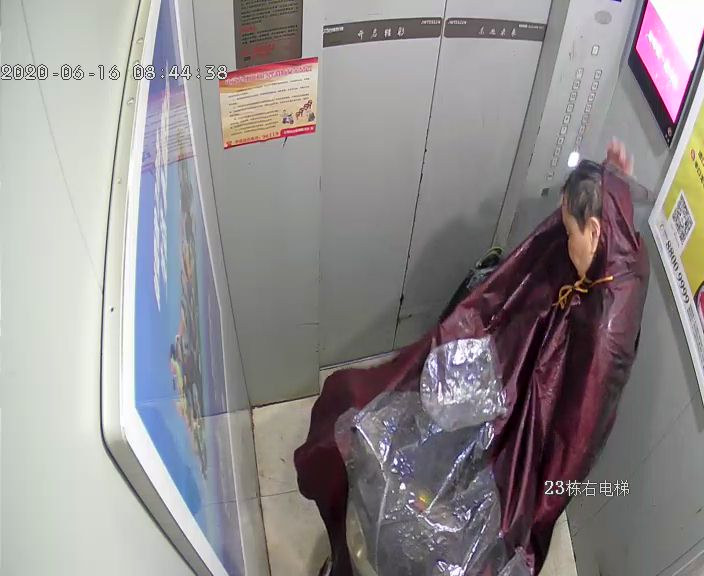Electric-bicycle: (350, 246, 521, 572)
